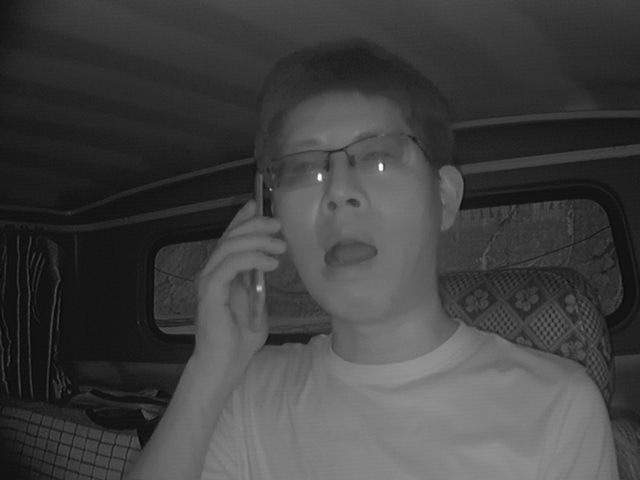hand: (191, 202, 290, 357)
